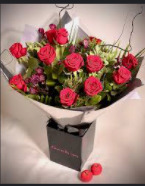RedRose: (61, 50, 81, 72), (84, 76, 104, 97), (38, 42, 57, 64), (8, 72, 26, 93), (85, 54, 106, 72), (114, 65, 132, 85), (58, 87, 76, 106), (8, 42, 27, 59), (56, 26, 70, 45), (121, 53, 140, 67)
